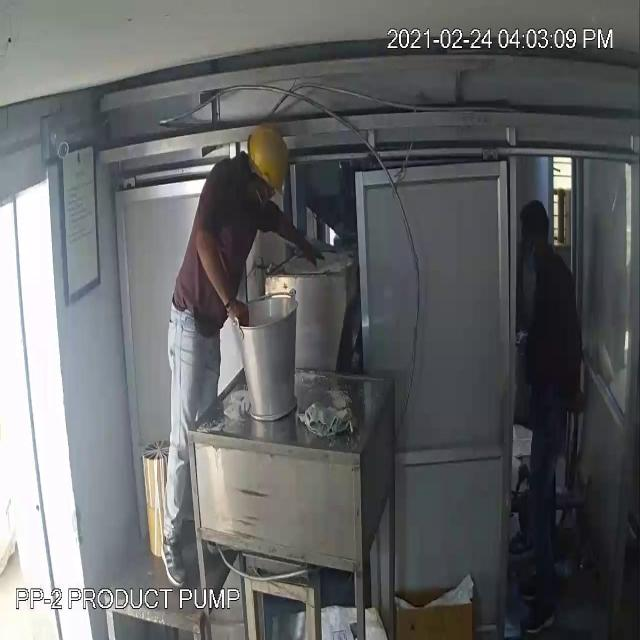helmet: (246, 119, 298, 200)
